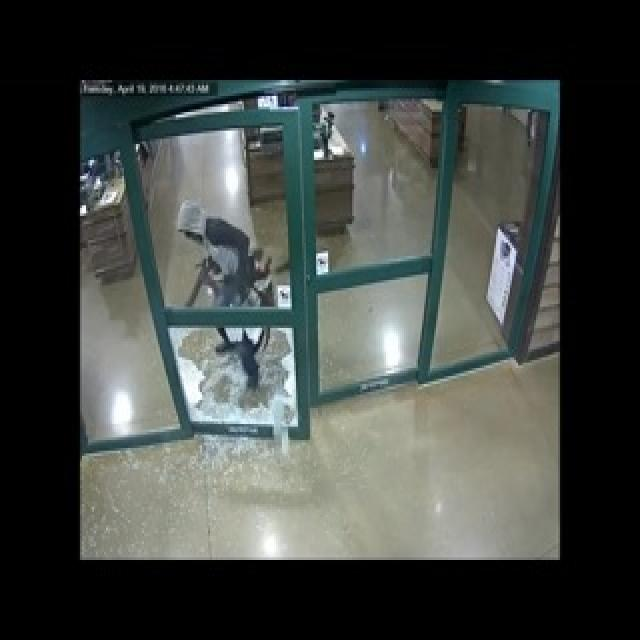thief: (180, 204, 266, 362)
